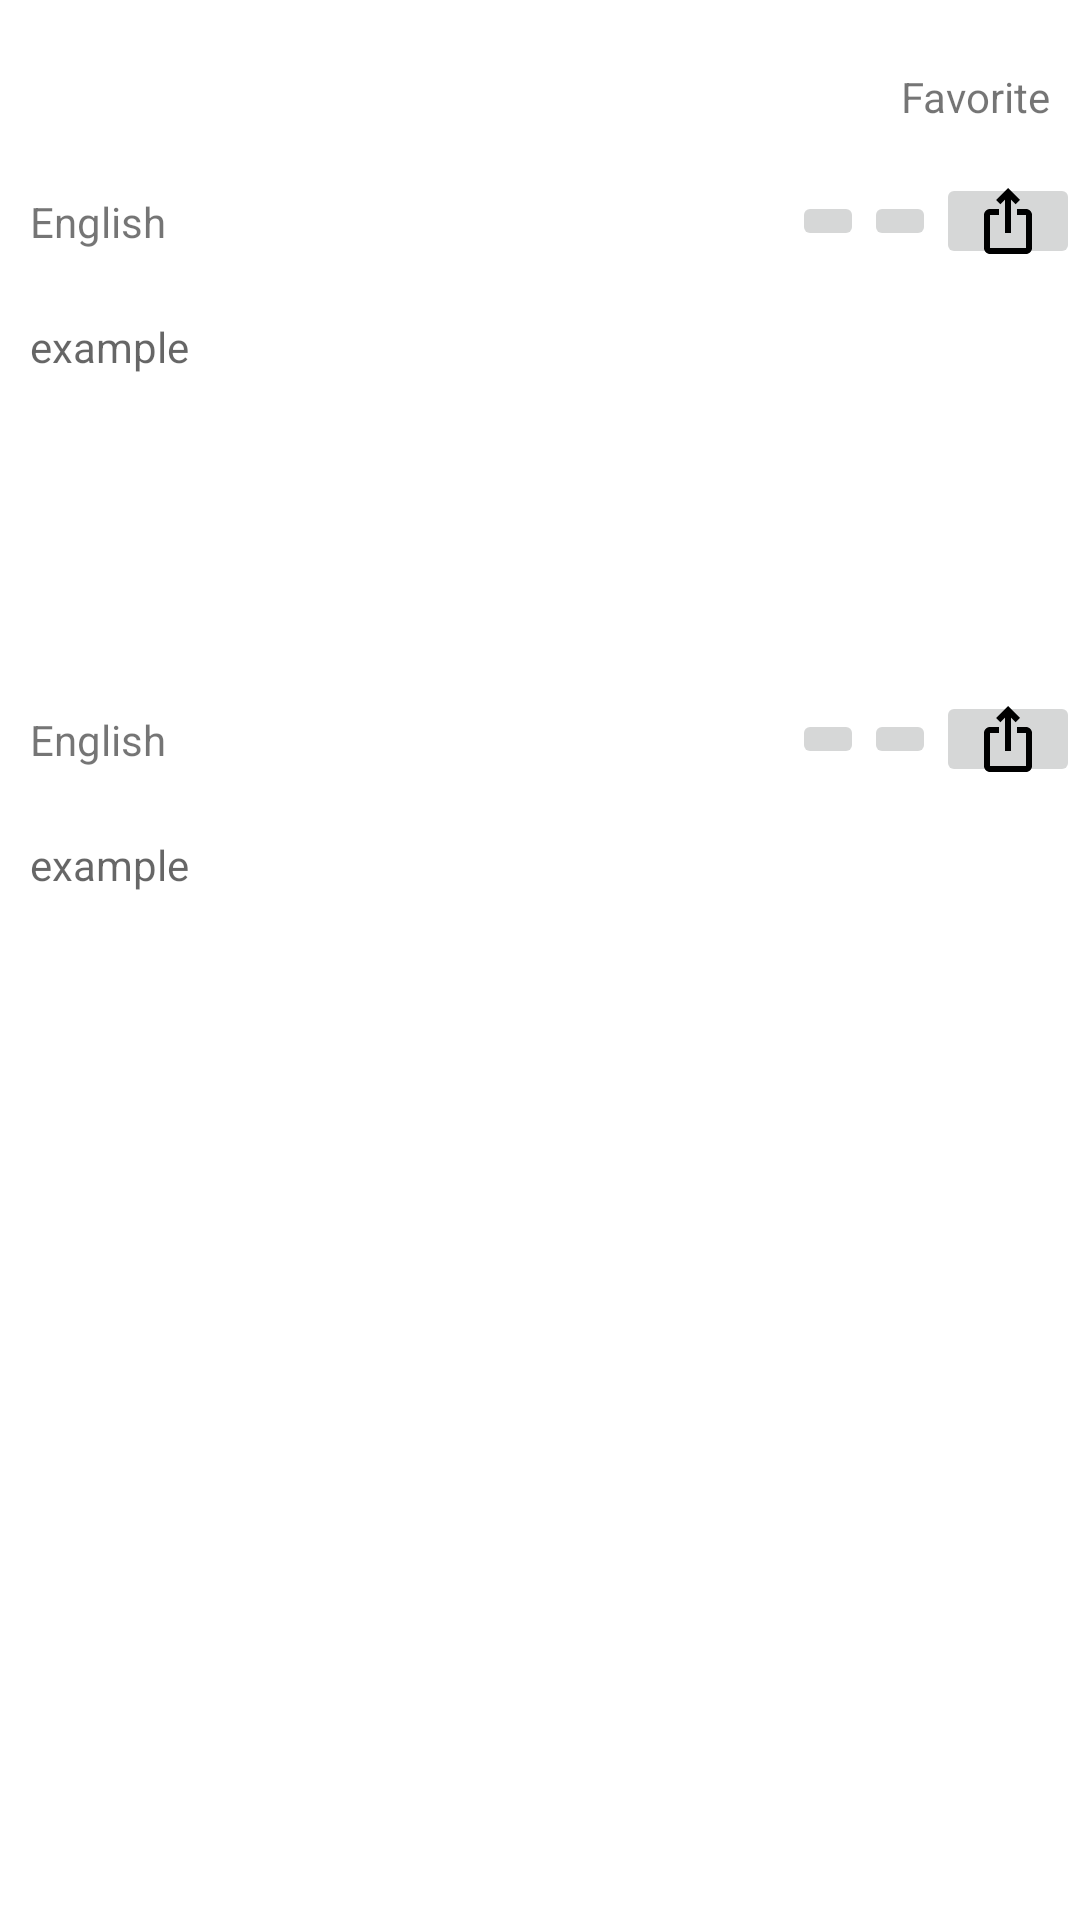

Screen size 1080w x 1920h. Icon name, then its box in pixels as detection(x1, y1, x2, y2):
share: detection(948, 188, 1068, 254), detection(948, 706, 1068, 772)
